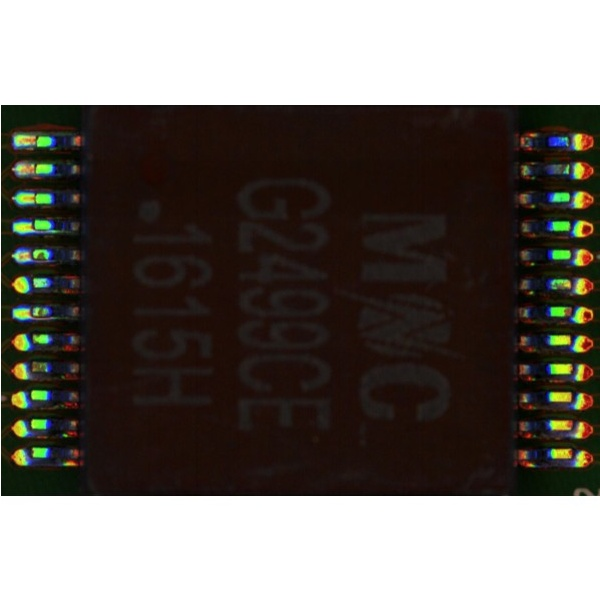Bad_podu: (24, 136, 45, 144), (25, 163, 40, 172), (22, 251, 40, 258), (25, 193, 42, 200), (22, 222, 39, 229)
Bad_qiaojiao: (29, 315, 62, 321), (34, 228, 66, 233)
